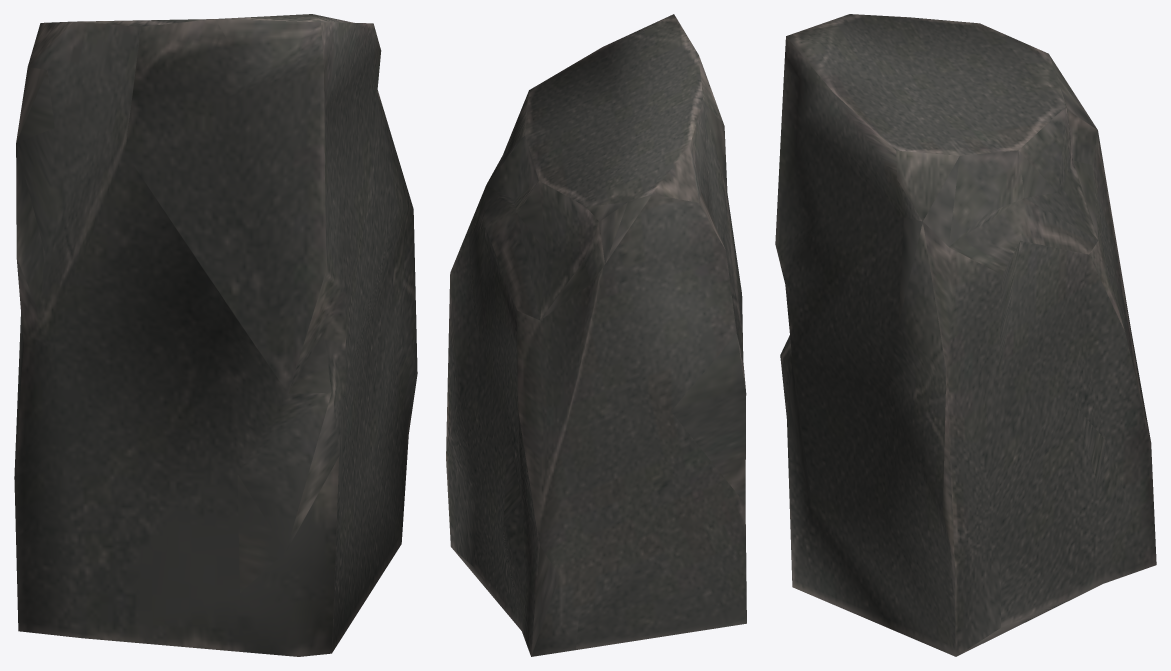
The model's file is boulder_tall.gltf.
The picture shows the model from 3 angles, left to right: view 1: azimuth 30°, elevation 25°; view 2: azimuth 150°, elevation 25°; view 3: azimuth 270°, elevation 25°; orthographic projection. The views are drawn at different scales.
Parts seen in each view (by area): view 1: boulder_tall; view 2: boulder_tall; view 3: boulder_tall.
Part boxes in pixels (<box>): boulder_tall: <box>14,14,417,656</box>; boulder_tall: <box>446,14,746,656</box>; boulder_tall: <box>775,14,1156,656</box>.
Bounding box in the file's own units: 0.76 × 1.2 × 0.76.
1 material, 1 textured.
